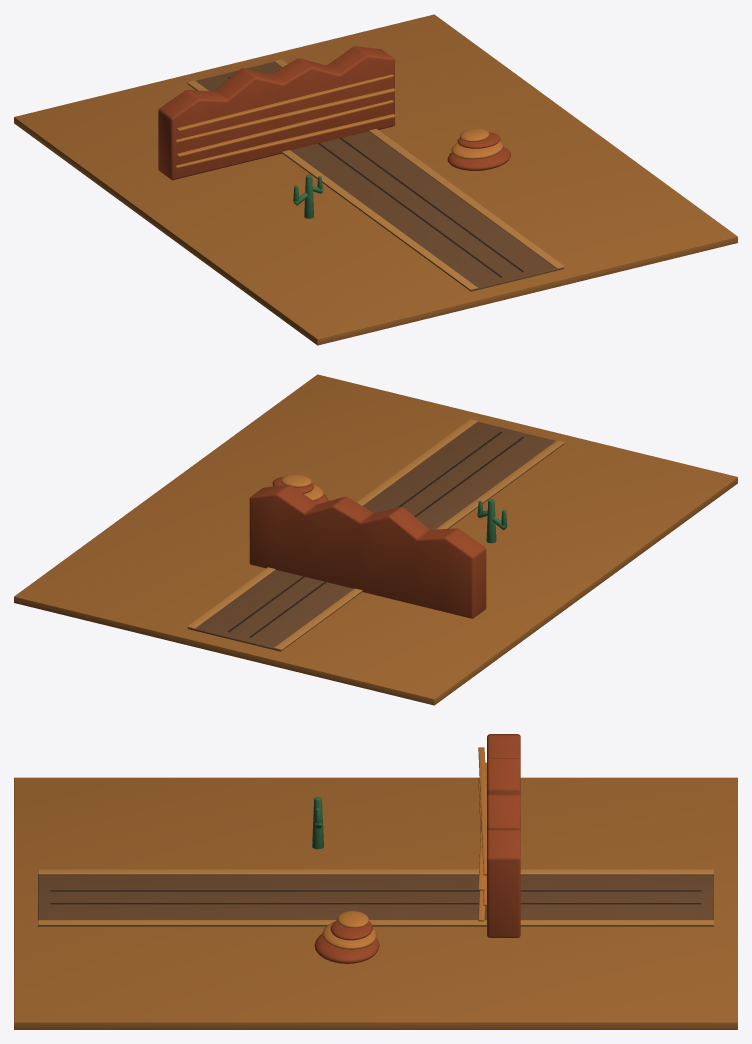
Rendered from desert_prototype_environment.glb.
3 views of the same model, one above another, from view 1: azimuth 30°, elevation 25°; view 2: azimuth 150°, elevation 25°; view 3: azimuth 270°, elevation 25° (orthographic). The views are drawn at different scales.
Parts seen in each view (by area): view 1: Terrain, Canyon_Wall, Road, Dusty_Road_Edge, Dusty_Road_Edge.001, Canyon_Strata_0, Canyon_Strata_2, Canyon_Strata_1, Canyon_Strata_3, Stratified_Rock_0, Stratified_Rock_1; view 2: Terrain, Canyon_Wall, Road, Dusty_Road_Edge, Dusty_Road_Edge.001; view 3: Terrain, Road, Canyon_Wall, Dusty_Road_Edge, Dusty_Road_Edge.001, Tire_Track, Tire_Track.001, Stratified_Rock_0, Canyon_Strata_3, Stratified_Rock_1, Stratified_Rock_2.
Part boxes in pixels (bbox=[...]): Terrain: bbox=[14, 14, 737, 345]; Canyon_Wall: bbox=[158, 46, 395, 180]; Road: bbox=[188, 62, 563, 291]; Dusty_Road_Edge: bbox=[187, 80, 477, 290]; Dusty_Road_Edge.001: bbox=[274, 59, 564, 268]; Canyon_Strata_0: bbox=[175, 114, 395, 168]; Canyon_Strata_2: bbox=[175, 88, 395, 142]; Canyon_Strata_1: bbox=[176, 100, 393, 157]; Canyon_Strata_3: bbox=[176, 74, 393, 131]; Stratified_Rock_0: bbox=[447, 147, 510, 170]; Stratified_Rock_1: bbox=[451, 141, 503, 159]; Terrain: bbox=[14, 374, 737, 705]; Canyon_Wall: bbox=[249, 484, 486, 618]; Road: bbox=[188, 422, 563, 651]; Dusty_Road_Edge: bbox=[274, 440, 564, 650]; Dusty_Road_Edge.001: bbox=[187, 419, 477, 628]; Terrain: bbox=[14, 777, 737, 1029]; Road: bbox=[38, 874, 713, 926]; Canyon_Wall: bbox=[487, 734, 520, 937]; Dusty_Road_Edge: bbox=[38, 869, 713, 874]; Dusty_Road_Edge.001: bbox=[38, 920, 713, 925]; Tire_Track: bbox=[50, 890, 701, 891]; Tire_Track.001: bbox=[50, 903, 701, 904]; Stratified_Rock_0: bbox=[314, 934, 379, 963]; Canyon_Strata_3: bbox=[478, 747, 486, 875]; Stratified_Rock_1: bbox=[322, 922, 376, 949]; Stratified_Rock_2: bbox=[330, 920, 372, 940].
Size of the model in its own units: 24 by 4.86 by 30.
